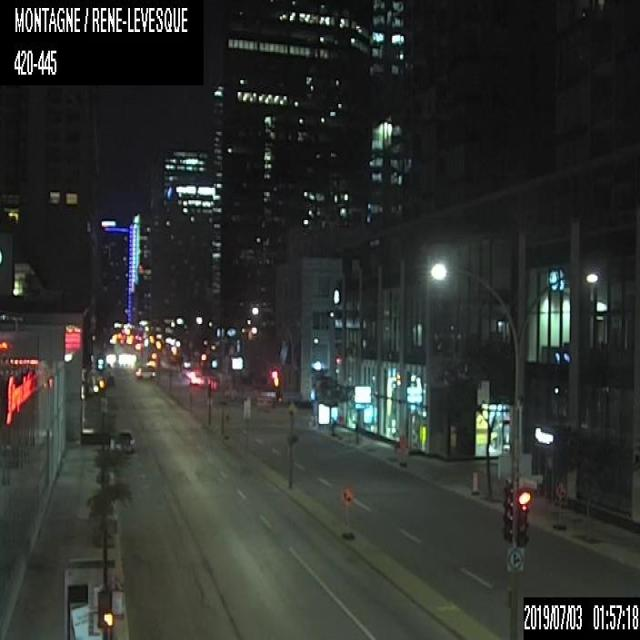construction: (341, 486, 354, 534), (554, 476, 566, 525), (398, 434, 407, 466)
vehicle: (114, 428, 133, 452), (135, 366, 155, 378), (189, 373, 204, 385), (146, 357, 158, 368)
